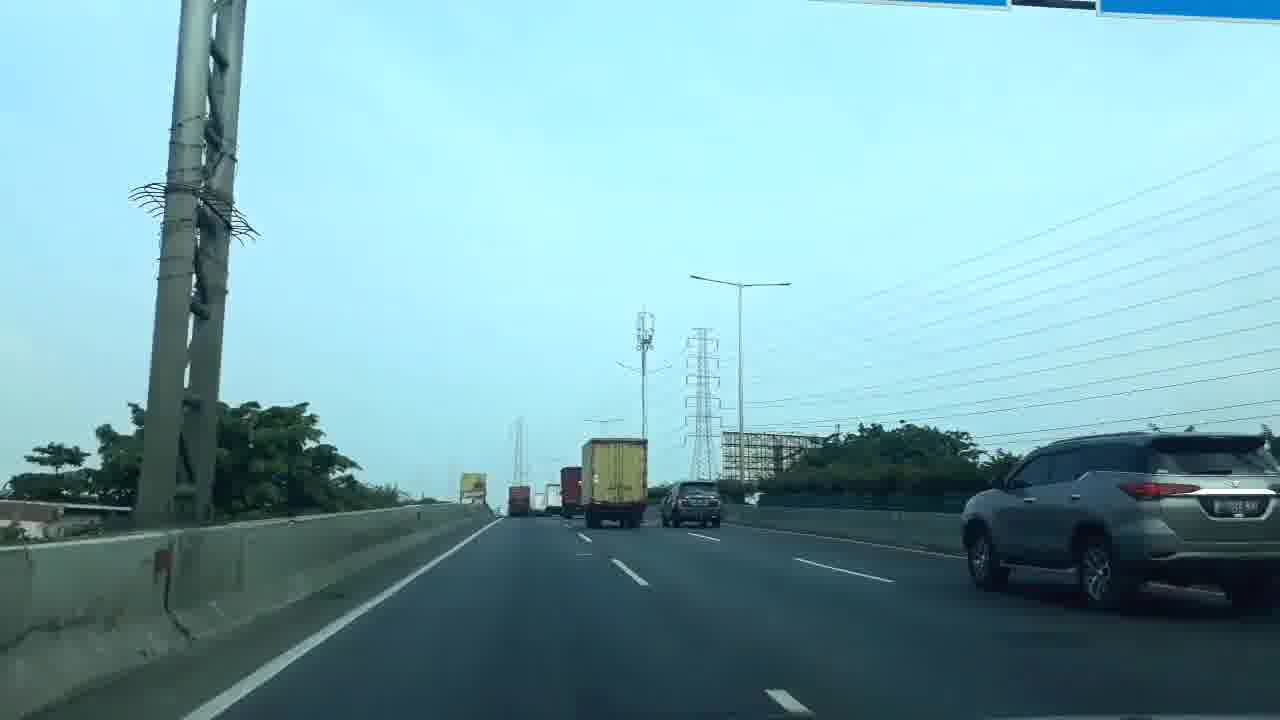plate_positive: (1214, 499, 1264, 514)
